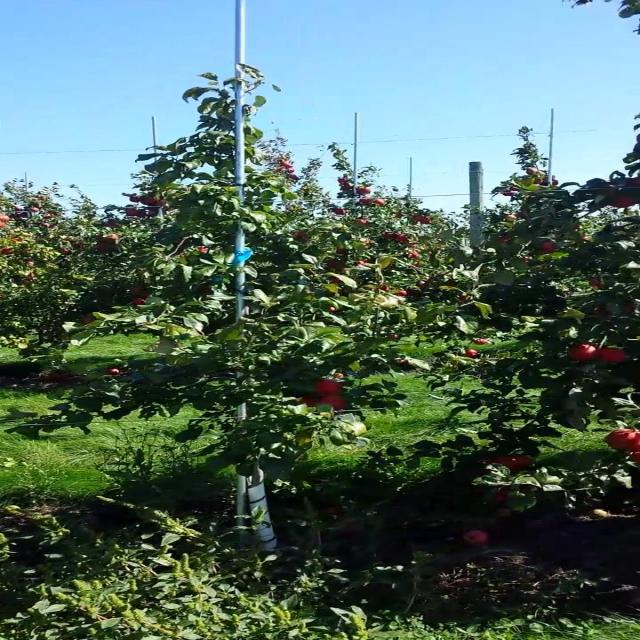apple: (611, 432, 638, 451), (504, 456, 533, 471), (497, 456, 526, 471), (319, 396, 348, 410), (575, 344, 597, 360), (319, 380, 341, 395), (604, 348, 626, 363), (611, 196, 633, 208), (497, 488, 512, 503), (540, 244, 556, 253), (305, 396, 318, 407), (589, 280, 604, 289)
